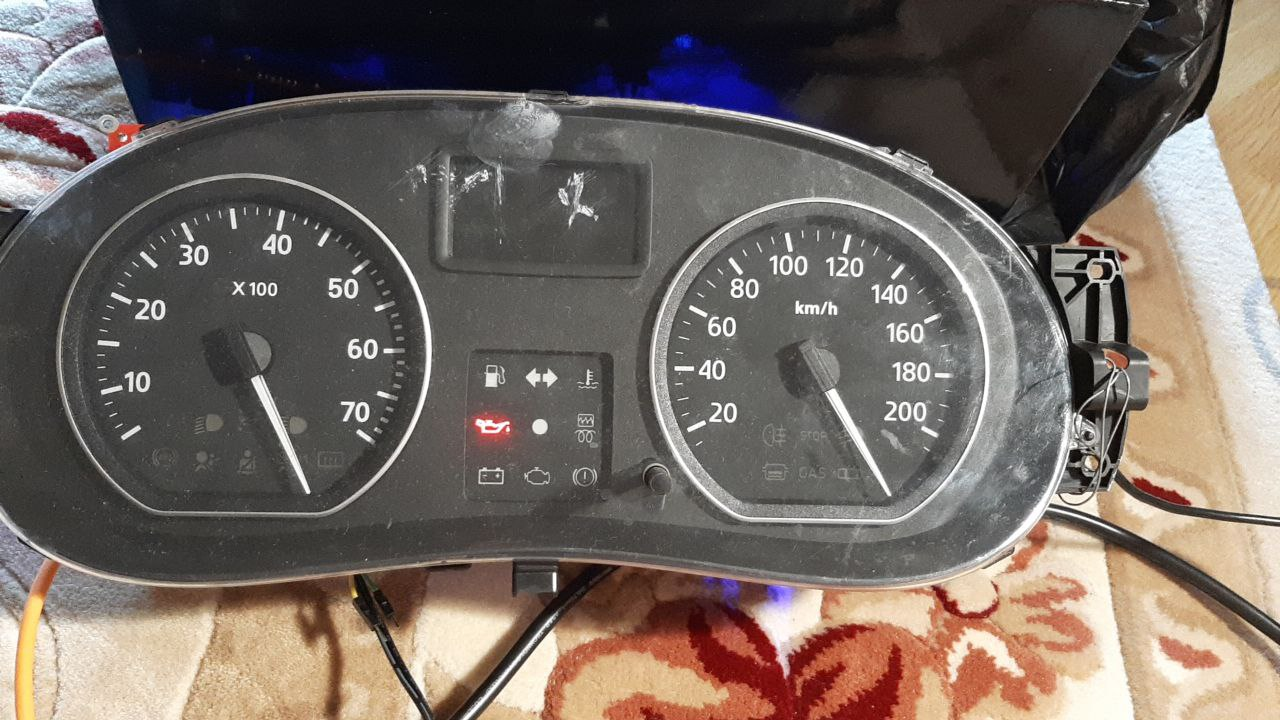oil: (467, 411, 514, 439)
